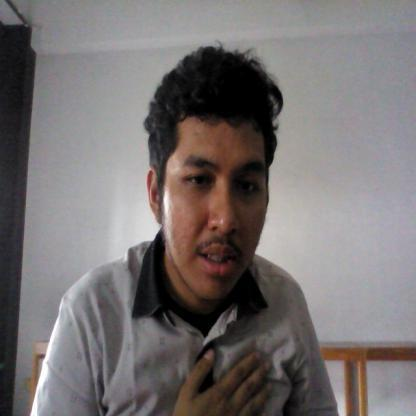Saya: (159, 343, 291, 416)
